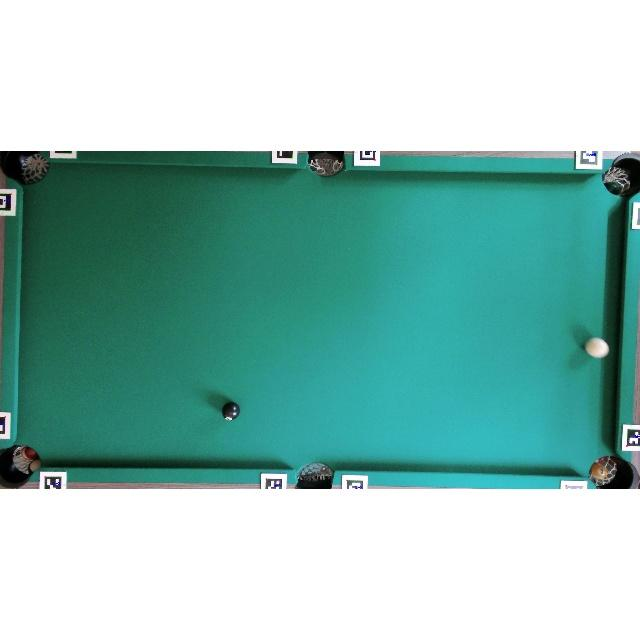cue ball: (584, 337, 610, 358)
other: (221, 400, 240, 421)
